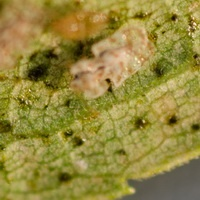insect: (70, 20, 153, 98)
